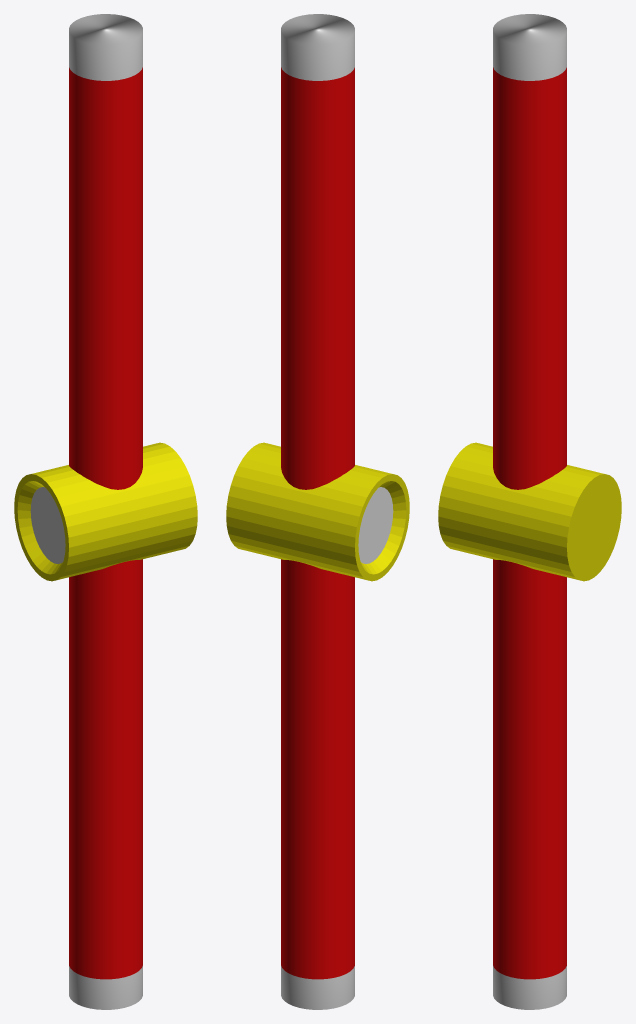
3 renders of one model, left to right at view 1: azimuth 30°, elevation 25°; view 2: azimuth 150°, elevation 25°; view 3: azimuth 330°, elevation 25°, orthographic.
Visible parts, largest first — view 1: 円柱, 円柱.001; view 2: 円柱, 円柱.001; view 3: 円柱, 円柱.001.
Part boxes in pixels (<box>): 円柱: <box>69,14,142,1009</box>; 円柱.001: <box>14,442,197,581</box>; 円柱: <box>281,14,354,1009</box>; 円柱.001: <box>226,442,409,581</box>; 円柱: <box>493,14,566,1009</box>; 円柱.001: <box>438,442,621,581</box>.
Size of the model in its own units: 264 by 1887 by 195.
